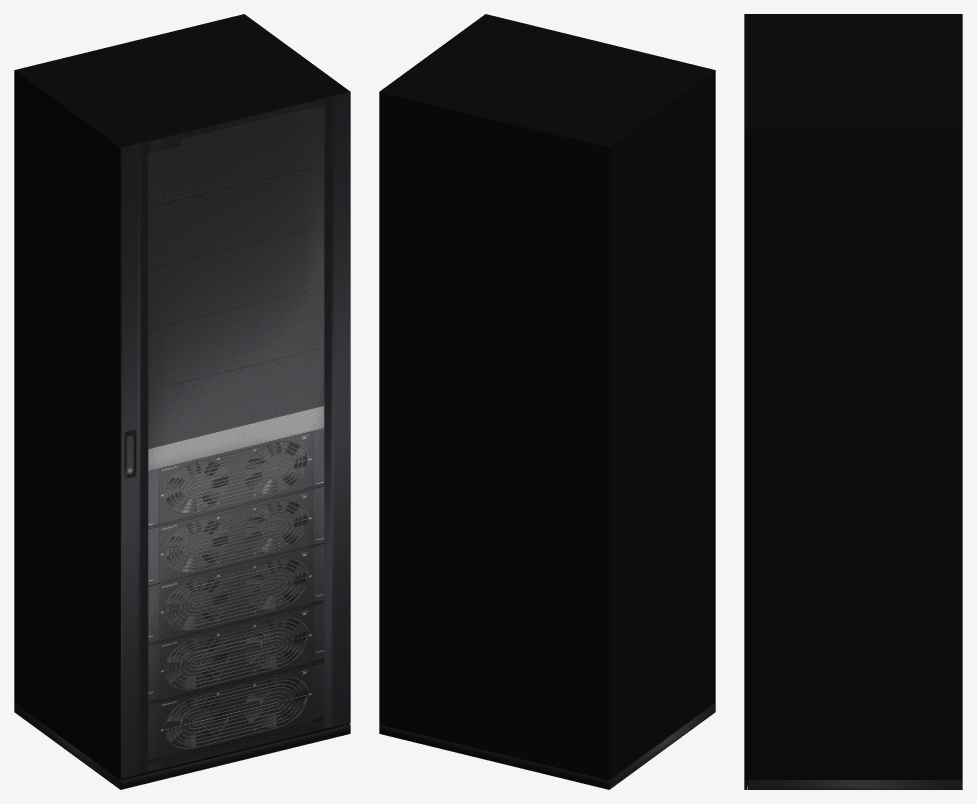
Rendered from BTR01.fbx.
3 views of the same model, side by side, from view 1: azimuth 30°, elevation 25°; view 2: azimuth 150°, elevation 25°; view 3: azimuth 270°, elevation 25° (orthographic). The views are drawn at different scales.
Parts seen in each view (by area): view 1: BTR01; view 2: BTR01; view 3: BTR01.
Boxes of the visible parts, left/top/right/bottom form: BTR01: left=14, top=14, right=350, bottom=789; BTR01: left=379, top=14, right=715, bottom=789; BTR01: left=744, top=14, right=962, bottom=789.
Size of the model in its own units: 750 by 2000 by 600.
2 materials, 1 textured.
